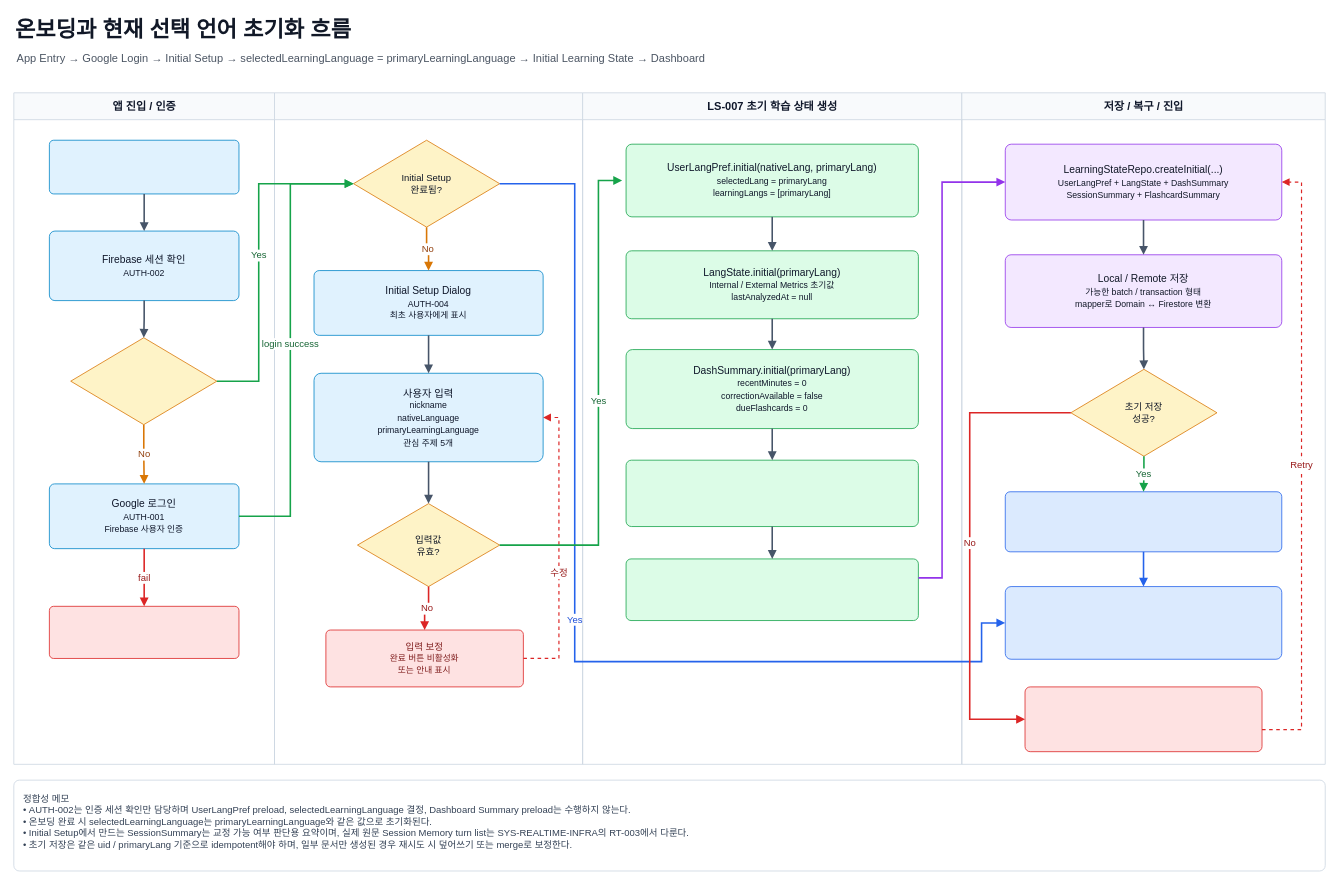
This 1339x885 diagram has some shape labels left out. The shapes that lost their labels are listed below. From the top down, each one's box as (x1, y1, x2, y2) in pixels, then its label:
(49, 139, 239, 194): 앱 실행 Splash 표시
(70, 337, 217, 425): 로그인 세션 있음?
(274, 92, 583, 764): Initial Setup 입력
(625, 459, 918, 527): SessionSummary.initial(primaryLang) Correction 진입 판단용 요약 원문 turn list 아님
(1004, 491, 1282, 552): GlobalLangState 갱신 selectedLearningLanguage = primaryLearningLanguage
(625, 558, 918, 621): FlashcardSummary.initial(primaryLang) dueFlashcards = 0 savedFlashcards = 0
(49, 606, 239, 658): Auth Error / Retry 인증 취소 / Firebase 실패
(1004, 586, 1282, 659): Dashboard 진입 Empty Summary 기준 렌더링 가능 이후 모든 Flow의 현재 언어 컨텍스트 확보
(1024, 686, 1262, 752): 저장 실패 / Retry 사용자 재시도 가능 부분 생성은 재시도 시 보정
